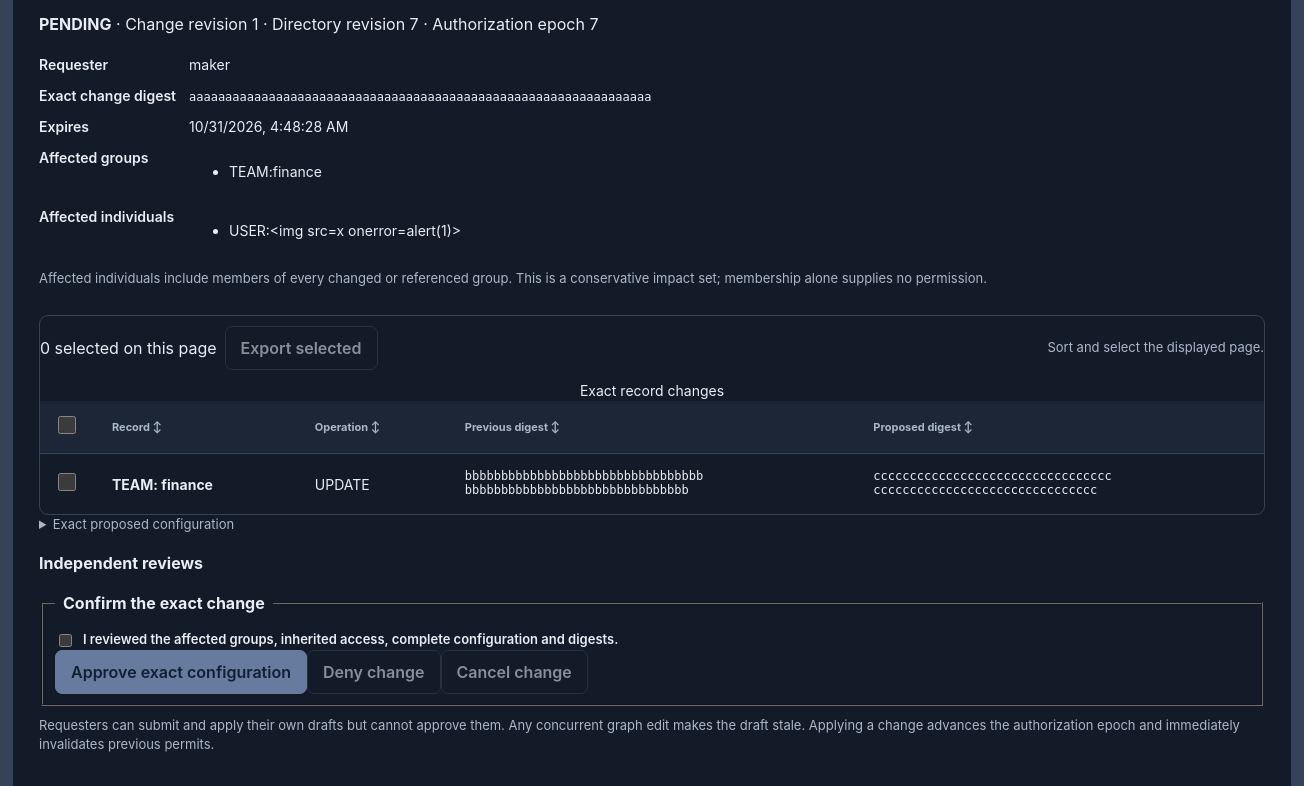
refreshes the linked review independently when the queue is unavailable
(page scrolled)
expect the button "Approve exact configuration" is shown: met, box [55,650,307,694]
Click the checkbox named "I reviewed the affected groups, inherited access, complete configuration and digests." at (66, 640), box [59,634,72,646]
(page scrolled)
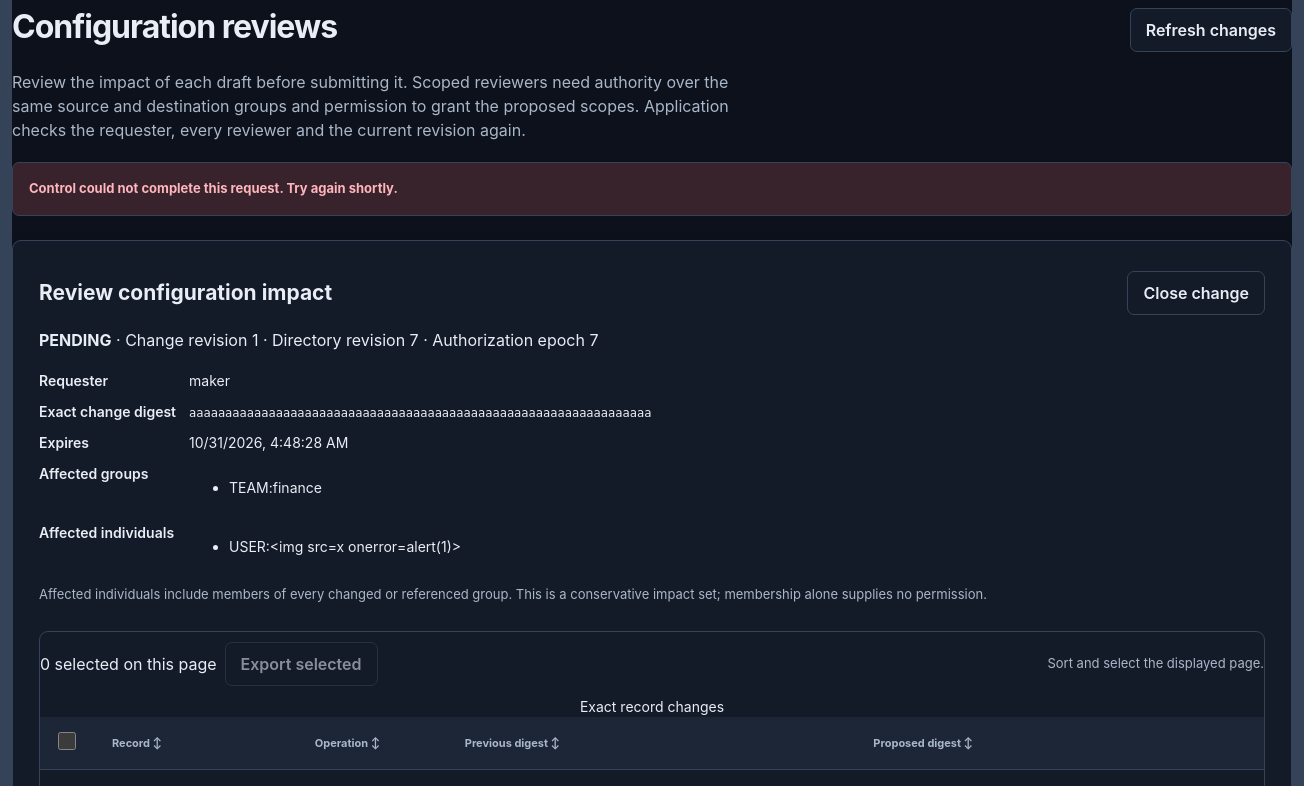
Click the button "Refresh changes" at (1211, 30), box [1130,8,1292,52]
(page scrolled)
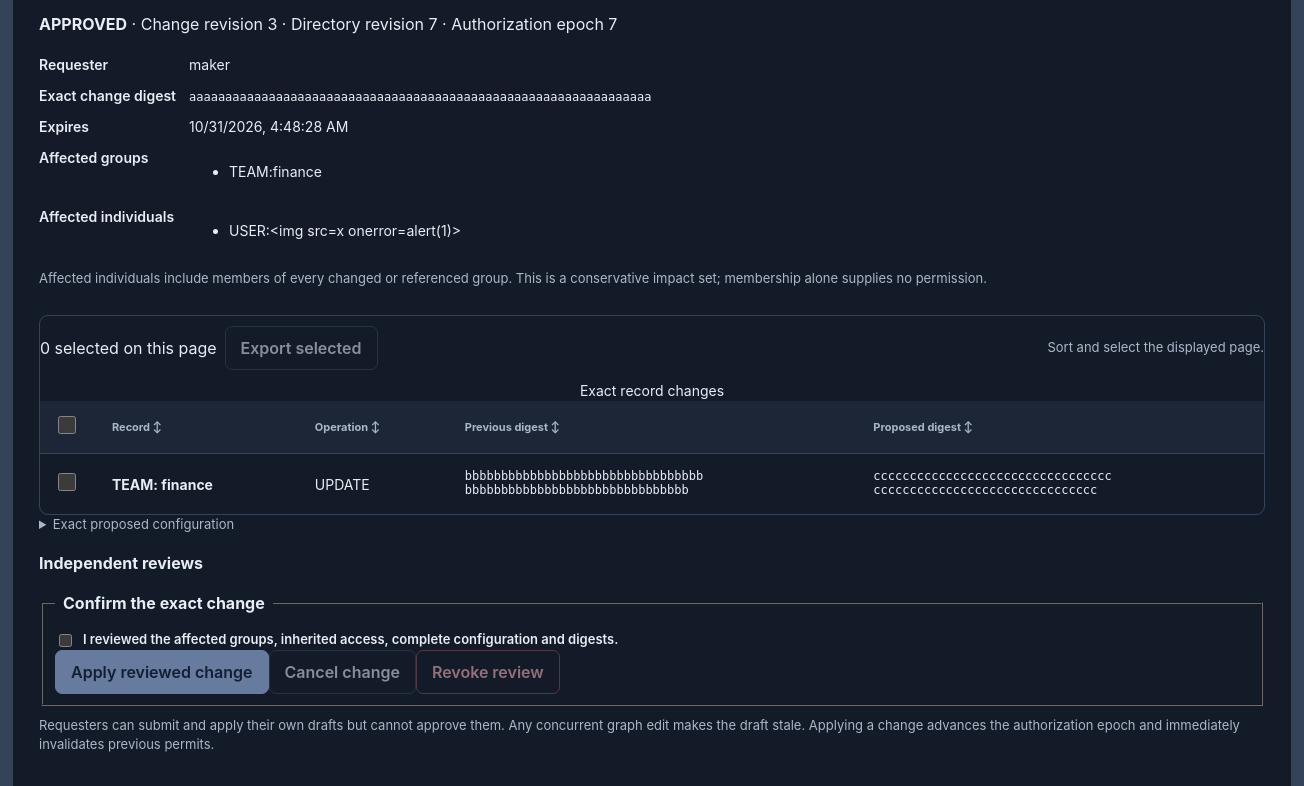
expect the button "Apply reviewed change" is shown: met, box [55,650,269,694]
expect the checkbox named "I reviewed the affected groups, inherited access, complete configuration and digests." is not checked: met, box [59,634,72,646]
